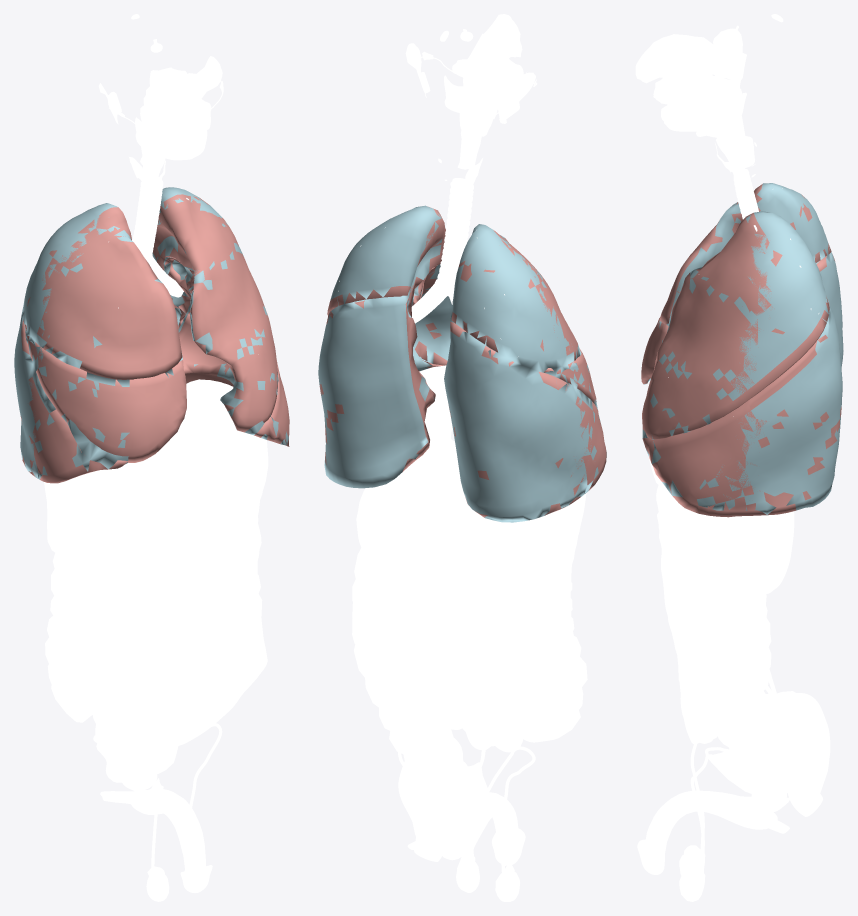
The model's file is visceral.glb.
3 renders of one model, left to right at view 1: azimuth 30°, elevation 25°; view 2: azimuth 150°, elevation 25°; view 3: azimuth 270°, elevation 25°, orthographic. The views are drawn at different scales.
Visible parts, largest first — view 1: Greater omentum, Superior lobe of right lung, Superior lobe of left lung, Pleura, Middle lobe of right lung, Ascending colon, Left medial segment of liver (IV), Anterior medial segment of liver (V), Inferior lobe of right lung, Anterior lateral segment of liver (VI), Stomach, Corpus cavernosum of penis (+13 smaller); view 2: Pleura, Jejunum, Ascending colon, Descending colon, Sigmoid colon, Anterior lateral segment of liver (VI), Kidney.l, Stomach, Kidney.r, Inferior lobe of right lung, Trachea, Superior lobe of left lung (+21 smaller); view 3: Pleura, Superior lobe of left lung, Descending colon, Inferior lobe of left lung, Greater omentum, Sigmoid colon, Corpus cavernosum of penis, Mucosa of nasal cavity, Kidney.l, Urinary bladder, Gingiva, Stomach (+16 smaller).
Part boxes in pixels (left/top/right/bottom): Greater omentum: left=64, top=488, right=267, bottom=748; Superior lobe of right lung: left=27, top=207, right=182, bottom=379; Superior lobe of left lung: left=153, top=194, right=277, bottom=432; Pleura: left=14, top=187, right=288, bottom=479; Middle lobe of right lung: left=24, top=324, right=186, bottom=462; Ascending colon: left=45, top=553, right=97, bottom=722; Left medial segment of liver (IV): left=151, top=404, right=198, bottom=535; Anterior medial segment of liver (V): left=81, top=483, right=155, bottom=550; Inferior lobe of right lung: left=20, top=319, right=127, bottom=483; Anterior lateral segment of liver (VI): left=44, top=482, right=109, bottom=558; Stomach: left=168, top=438, right=268, bottom=534; Corpus cavernosum of penis: left=100, top=778, right=205, bottom=871; Pleura: left=318, top=205, right=600, bottom=522; Jejunum: left=390, top=529, right=532, bottom=752; Ascending colon: left=515, top=565, right=587, bottom=742; Descending colon: left=352, top=548, right=464, bottom=776; Sigmoid colon: left=398, top=730, right=462, bottom=861; Anterior lateral segment of liver (VI): left=479, top=493, right=586, bottom=575; Kidney.l: left=356, top=484, right=417, bottom=575; Stomach: left=407, top=414, right=467, bottom=503; Kidney.r: left=485, top=525, right=534, bottom=617; Inferior lobe of right lung: left=449, top=321, right=606, bottom=517; Trachea: left=434, top=178, right=473, bottom=296; Superior lobe of left lung: left=327, top=207, right=447, bottom=365; Pleura: left=642, top=183, right=843, bottom=514; Superior lobe of left lung: left=642, top=213, right=829, bottom=439; Descending colon: left=712, top=530, right=817, bottom=759; Inferior lobe of left lung: left=642, top=301, right=841, bottom=517; Greater omentum: left=657, top=500, right=726, bottom=744; Sigmoid colon: left=788, top=693, right=830, bottom=816; Corpus cavernosum of penis: left=644, top=790, right=789, bottom=856; Mucosa of nasal cavity: left=635, top=34, right=710, bottom=83; Kidney.l: left=753, top=511, right=794, bottom=594; Urinary bladder: left=708, top=751, right=797, bottom=797; Gingiva: left=653, top=74, right=717, bottom=131; Stomach: left=656, top=481, right=738, bottom=538.
Bounding box in the file's own units: 0.2618 × 0.8933 × 0.192.
